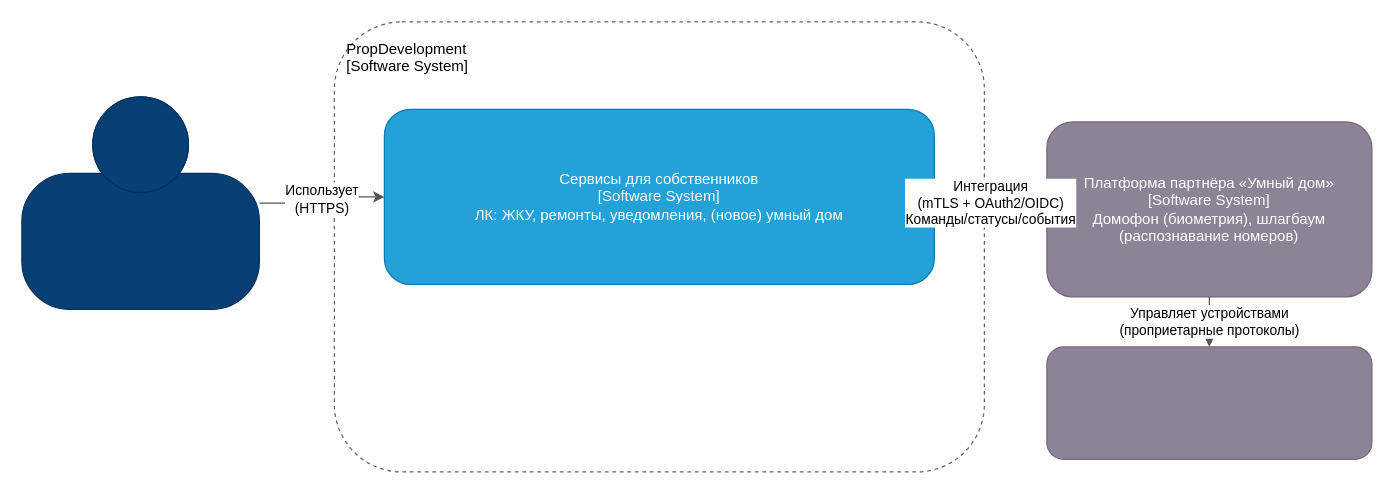
This 1394x494 diagram has some shape labels left out. Each missing label, with the centre of its shape:
Собственник [Person] Использует мобильное приложение: point 140,202
Устройства Домофоны / Камеры / Шлагбаумы [Device/IoT]: point 1209,402
